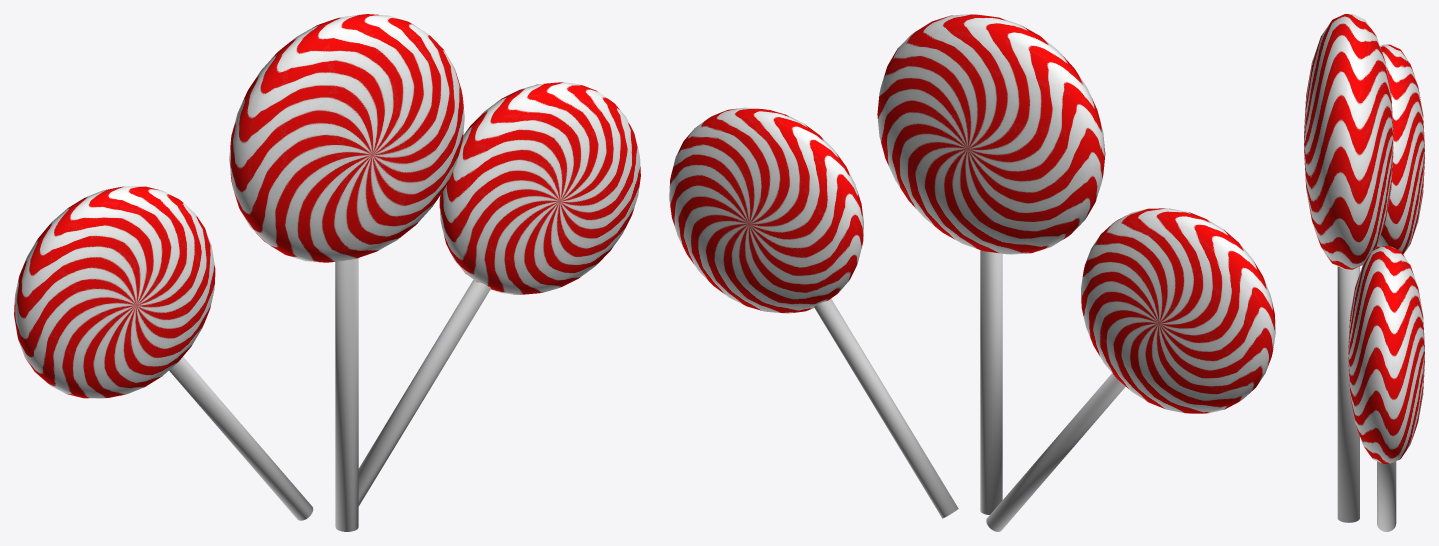
The model's file is Dulce.fbx.
3 views of the same model, side by side, from view 1: azimuth 30°, elevation 25°; view 2: azimuth 150°, elevation 25°; view 3: azimuth 270°, elevation 25° (orthographic). The views are drawn at different scales.
Visible parts, largest first — view 1: Dulces, Palos; view 2: Dulces, Palos; view 3: Dulces, Palos.
Boxes of the visible parts, left/top/right/bottom form: Dulces: left=14, top=14, right=640, bottom=398; Palos: left=169, top=258, right=490, bottom=531; Dulces: left=669, top=14, right=1275, bottom=413; Palos: left=814, top=250, right=1125, bottom=531; Dulces: left=1304, top=14, right=1424, bottom=463; Palos: left=1337, top=266, right=1396, bottom=531.
Bounding box in the file's own units: 543 × 425 × 94.39.
